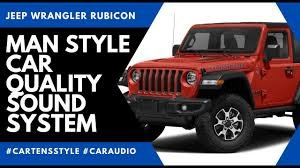mobil: (130, 18, 300, 140)
